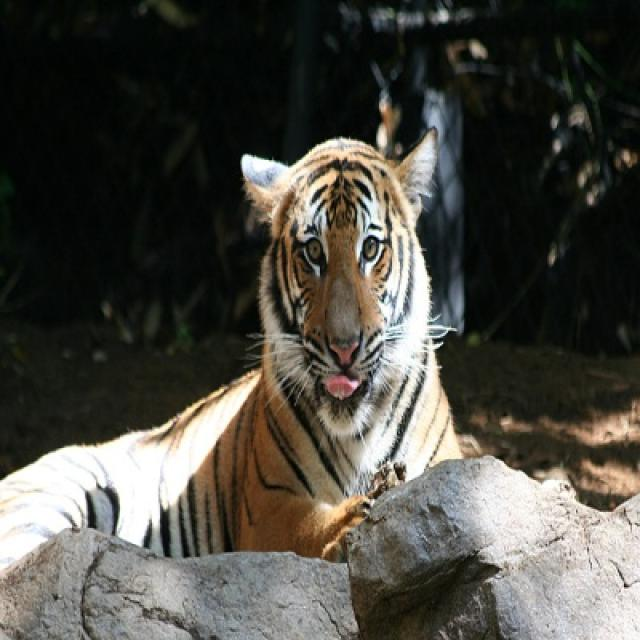Tiger: (0, 130, 459, 558)
